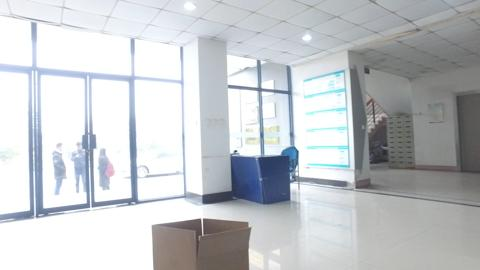box: (141, 217, 251, 269)
